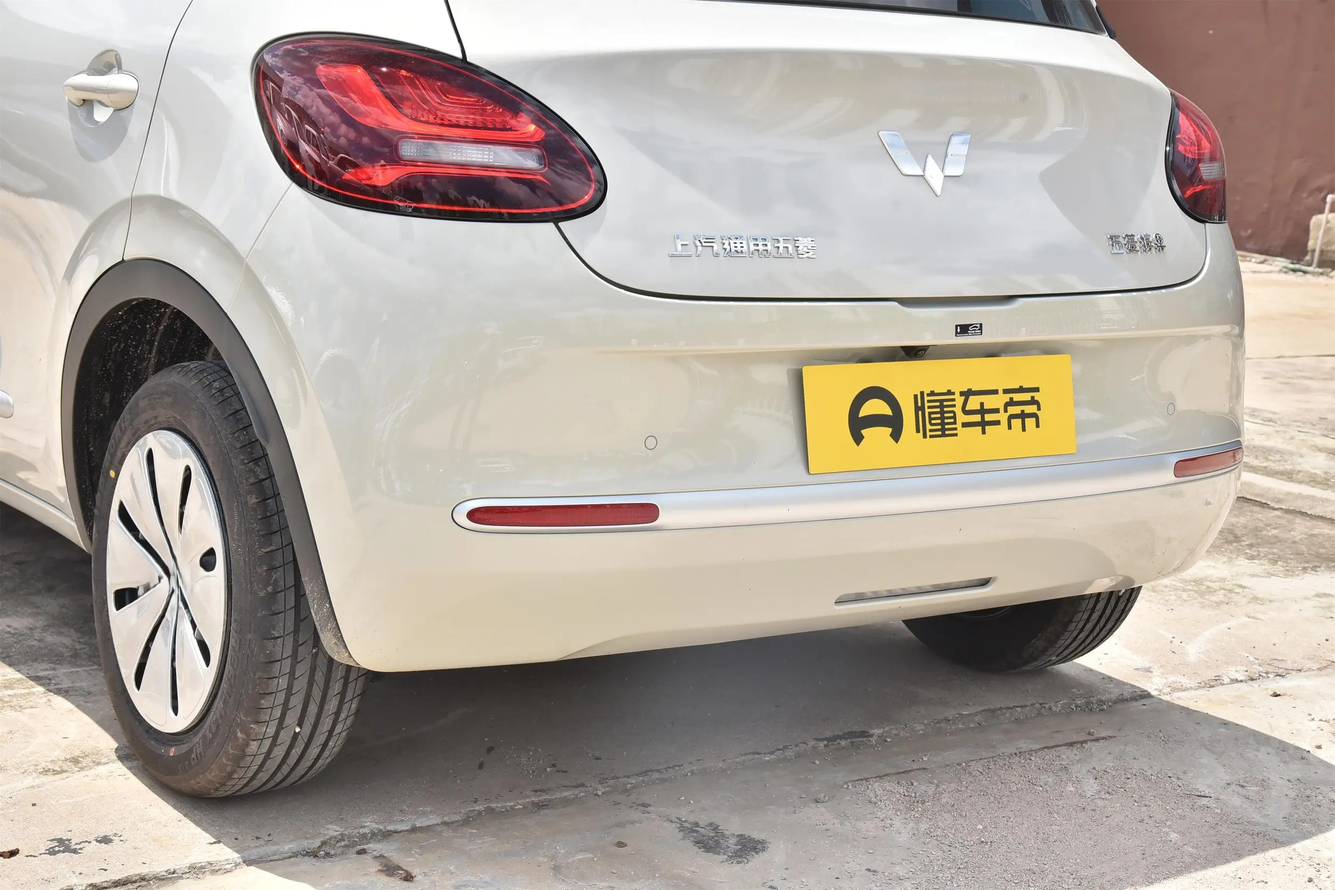SGMW: (879, 131, 970, 195)
